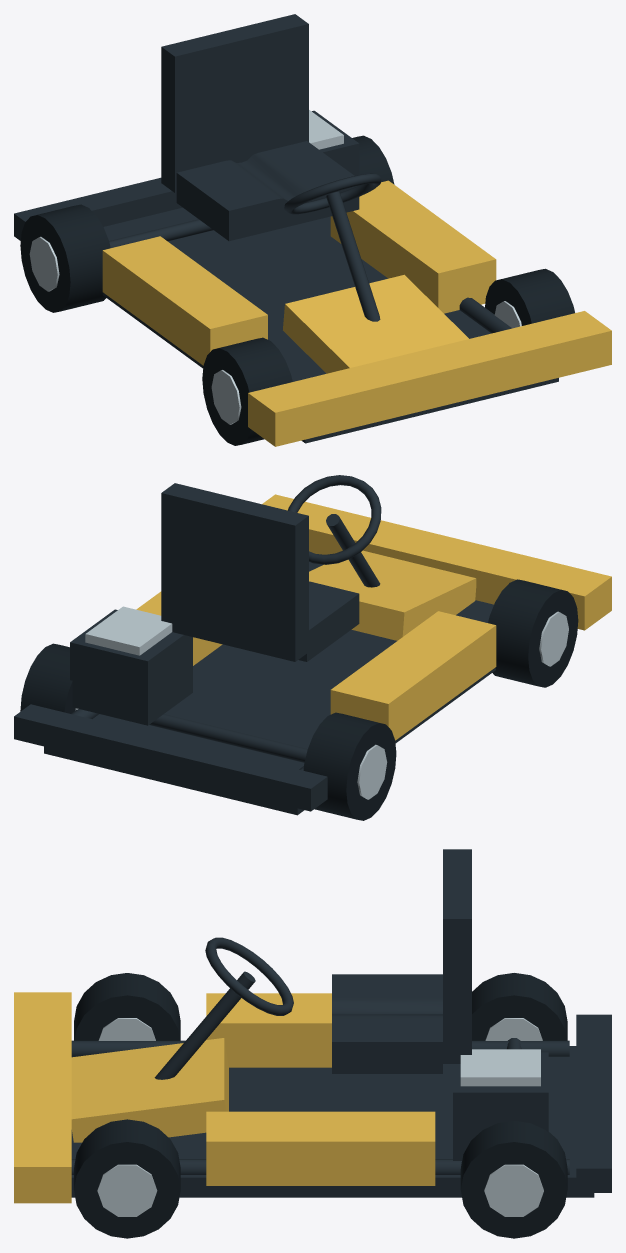
The picture shows the model from 3 angles, top to bottom: view 1: azimuth 30°, elevation 25°; view 2: azimuth 150°, elevation 25°; view 3: azimuth 270°, elevation 25°; orthographic projection. The views are drawn at different scales.
Visible parts, largest first — view 1: kart, seat-back, seat-cushion; view 2: kart, seat-back, seat-cushion; view 3: kart, seat-cushion, seat-back.
Part boxes in pixels (x1,y1,x2,y2): kart: (14, 110, 611, 446); seat-back: (161, 14, 308, 192); seat-cushion: (176, 141, 359, 241); kart: (14, 475, 611, 820); seat-back: (161, 483, 308, 661); seat-cushion: (298, 581, 359, 661); kart: (14, 937, 611, 1238); seat-cushion: (332, 974, 442, 1073); seat-back: (443, 849, 471, 1063).
Size of the model in its own units: 1.86 by 1.34 by 2.69.
